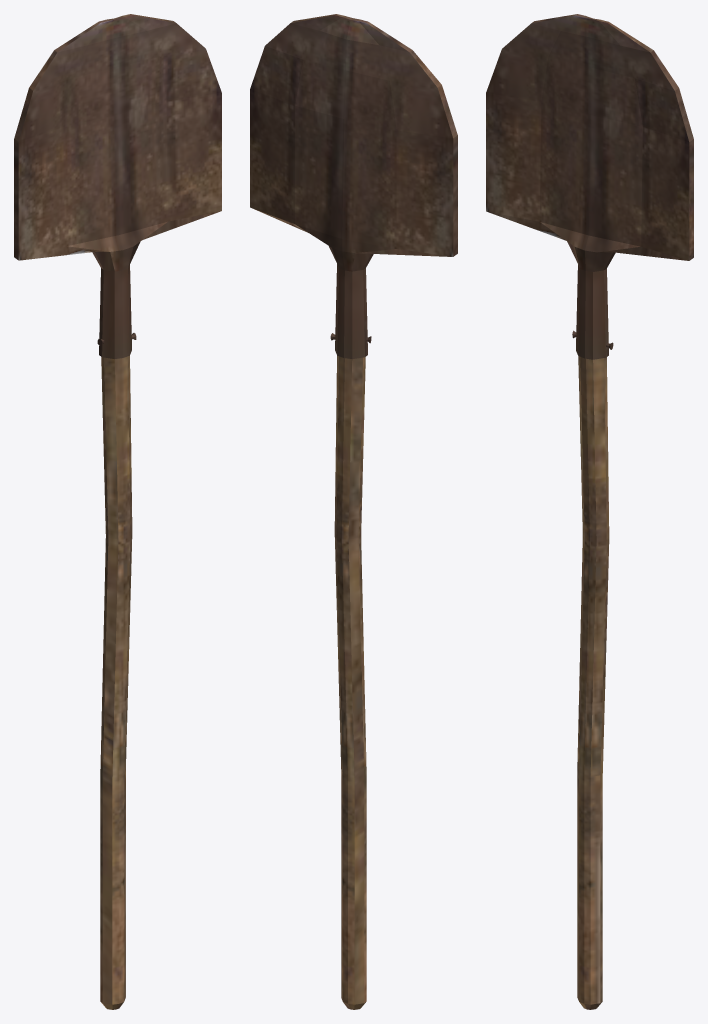
Rendered from Shovel_Old.glb.
3 renders of one model, left to right at view 1: azimuth 30°, elevation 25°; view 2: azimuth 150°, elevation 25°; view 3: azimuth 330°, elevation 25°, orthographic.
Parts seen in each view (by area): view 1: Shovel_Old; view 2: Shovel_Old; view 3: Shovel_Old.
Part boxes in pixels (x1=…): Shovel_Old: x1=14, y1=14, x2=221, y2=1009; Shovel_Old: x1=250, y1=14, x2=457, y2=1009; Shovel_Old: x1=486, y1=14, x2=693, y2=1009.
Size of the model in its own units: 1.67 by 7.75 by 0.2407.
Materials: 1 (1 with a texture image).
